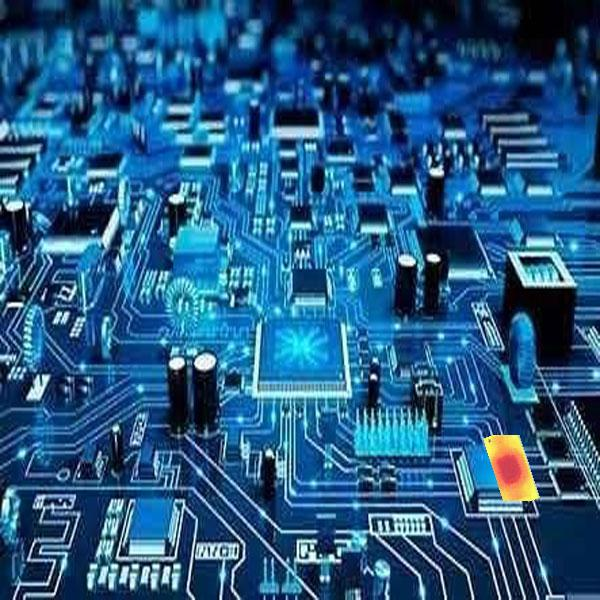componente_T: (478, 432, 540, 505)
